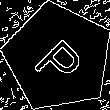P_NE: (27, 27, 90, 88)
